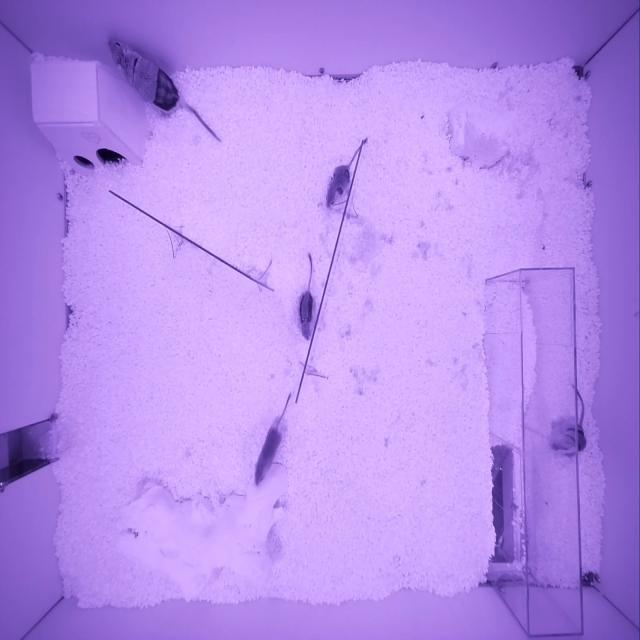adult_back: (108, 39, 182, 115)
pup_fluffy: (253, 423, 282, 486)
pup_h_stripe: (553, 424, 587, 456)
pup_spotted: (325, 165, 352, 208)
pup_v_stripe: (297, 290, 315, 341)
